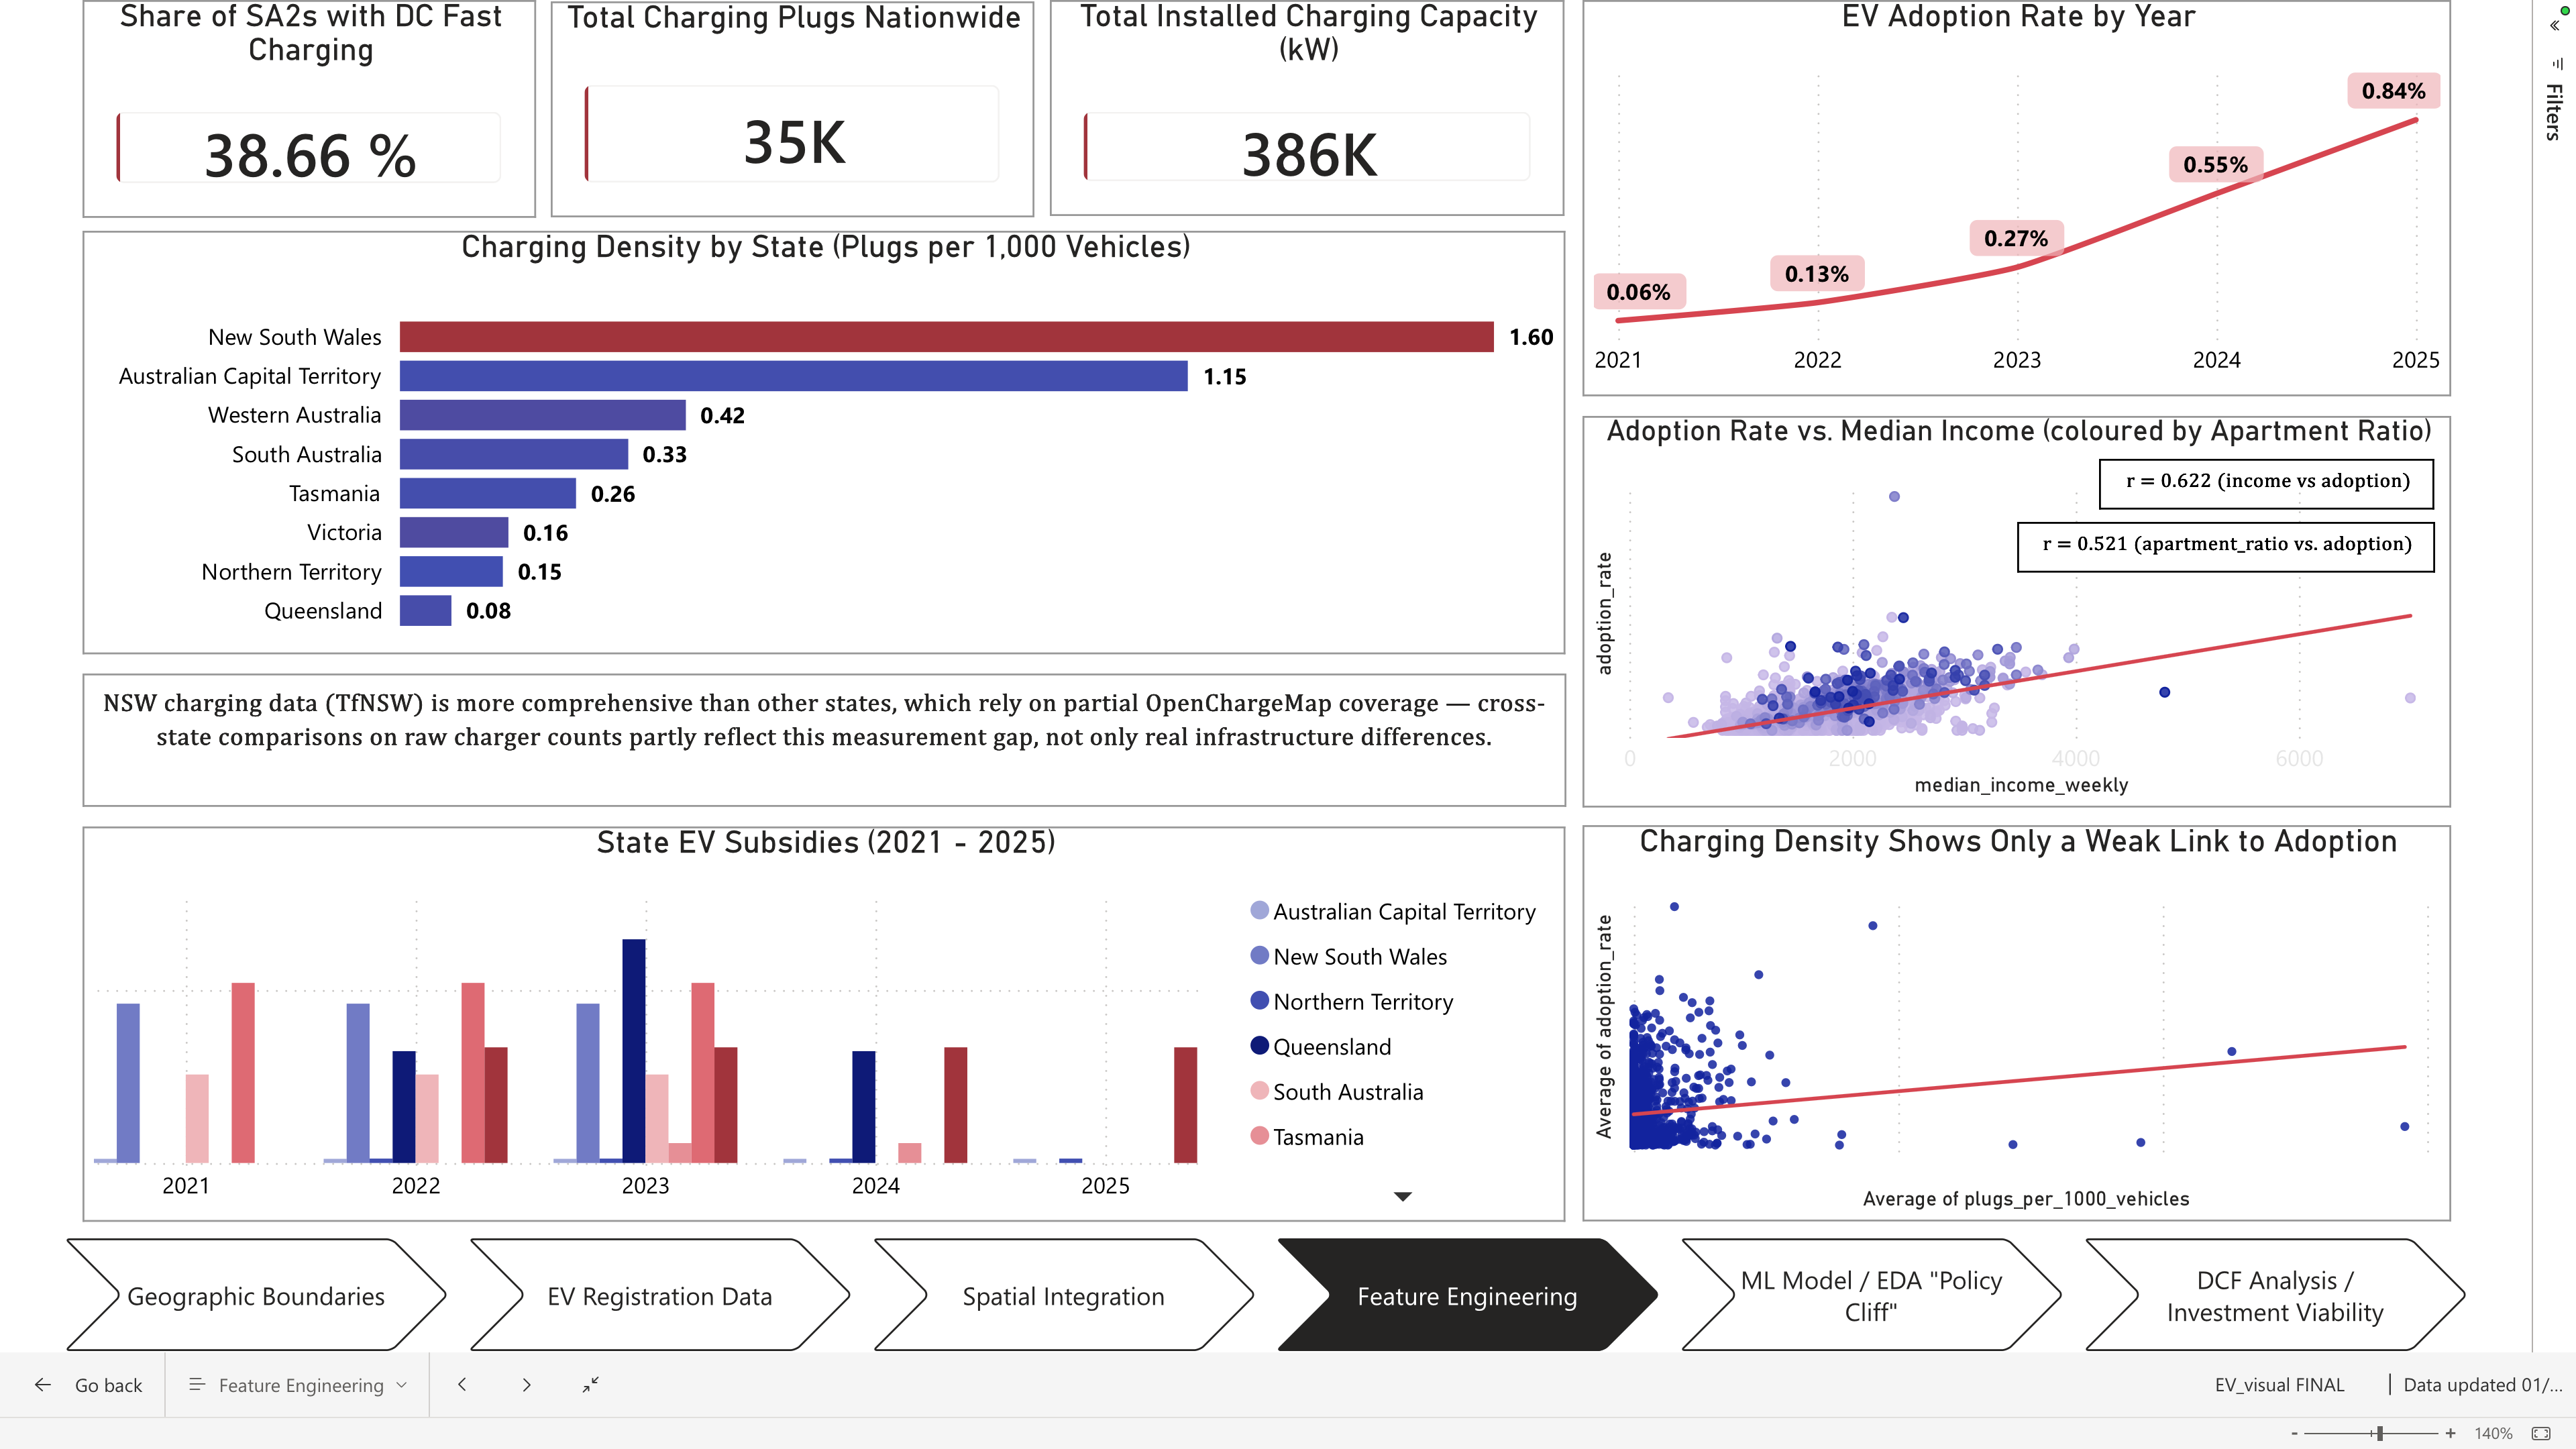

What the dashboard file says about the page in this screenshot:
{"tool":"powerbi","page":{"name":"Feature Engineering","canvas":[1280,720],"ordinal":3},"visuals":[{"type":"clusteredColumnChart","title":"State EV Subsidies (2021 - 2025)","fields":{"Category":["ev_master_charging.year"],"Series":["ev_master_charging.STE_NAME21"],"Y":["Sum(ev_master_charging.incentive_aud)"]},"box":[9.9,439.9,789.4,210.5],"z":0},{"type":"scatterChart","title":"Adoption Rate vs. Median Income (coloured by Apartment Ratio)","fields":{"Series":["ev_master_charging.apartment_ratio"],"X":["ev_master_charging.median_income_weekly"],"Y":["ev_master_charging.adoption_rate"]},"box":[808.2,221.4,462.7,208.5],"z":1000},{"type":"clusteredBarChart","title":"Charging Density by State (Plugs per 1,000 Vehicles)","fields":{"Category":["ev_master_charging.STE_NAME21"],"Y":["Avg(ev_master_charging.plugs_per_1000_vehicles)"]},"box":[9.9,123.1,789.4,225.4],"z":2000},{"type":"scatterChart","title":"Charging Density Shows Only a Weak Link to Adoption","fields":{"Category":["ev_master_charging.SA2_CODE21"],"X":["Avg(ev_master_charging.plugs_per_1000_vehicles)"],"Y":["Avg(ev_master_charging.adoption_rate)"]},"box":[808.5,439.5,462.7,211],"z":3000},{"type":"cardVisual","title":"Share of SA2s with DC Fast Charging","fields":{"Data":["ev_master_charging.SA2 with DC Charger"]},"box":[9.7,0,241.6,116],"z":4000},{"type":"cardVisual","title":"Total Charging Plugs Nationwide","fields":{"Data":["Sum(ev_master_charging.total_plugs)"]},"box":[259.2,0.9,257.4,115.1],"z":5000},{"type":"cardVisual","title":"Total Installed Charging Capacity (kW)","fields":{"Data":["Sum(ev_master_charging.max_power_kw)"]},"box":[525.4,0,274.1,115.1],"z":6000},{"type":"lineChart","title":"EV Adoption Rate by Year","fields":{"Category":["ev_master_charging.year"],"Y":["Avg(ev_master_charging.adoption_rate)"]},"box":[808.5,0,462.7,211],"z":7000},{"type":"pageNavigator","box":[0,659.4,1280,60.6],"z":8000},{"type":"textbox","box":[9.7,358.4,789.8,71.2],"z":9000},{"type":"textbox","box":[1083.4,244.3,178.7,26.8],"z":10000},{"type":"textbox","box":[1039.7,278,222.4,26.8],"z":11000}]}

Visuals, with their boxes on the page's 1280x720 design canvas (x1, y1, x2, y2). These are canvas units, not pixel positions in the 2576x1449 screenshot, which may show the page scaled, cropped or inside an application window:
"State EV Subsidies (2021 - 2025)" clusteredColumnChart: (10,440,799,650)
"Adoption Rate vs. Median Income (coloured by Apartment Ratio)" scatterChart: (808,221,1271,430)
"Charging Density by State (Plugs per 1,000 Vehicles)" clusteredBarChart: (10,123,799,348)
"Charging Density Shows Only a Weak Link to Adoption" scatterChart: (808,440,1271,650)
"Share of SA2s with DC Fast Charging" cardVisual: (10,0,251,116)
"Total Charging Plugs Nationwide" cardVisual: (259,1,517,116)
"Total Installed Charging Capacity (kW)" cardVisual: (525,0,800,115)
"EV Adoption Rate by Year" lineChart: (808,0,1271,211)
pageNavigator: (0,659,1280,720)
textbox: (10,358,800,430)
textbox: (1083,244,1262,271)
textbox: (1040,278,1262,305)
